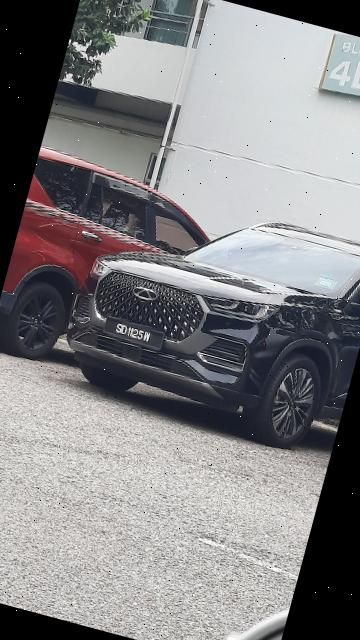License_Plate: (100, 314, 171, 356)
car: (53, 171, 360, 452)
